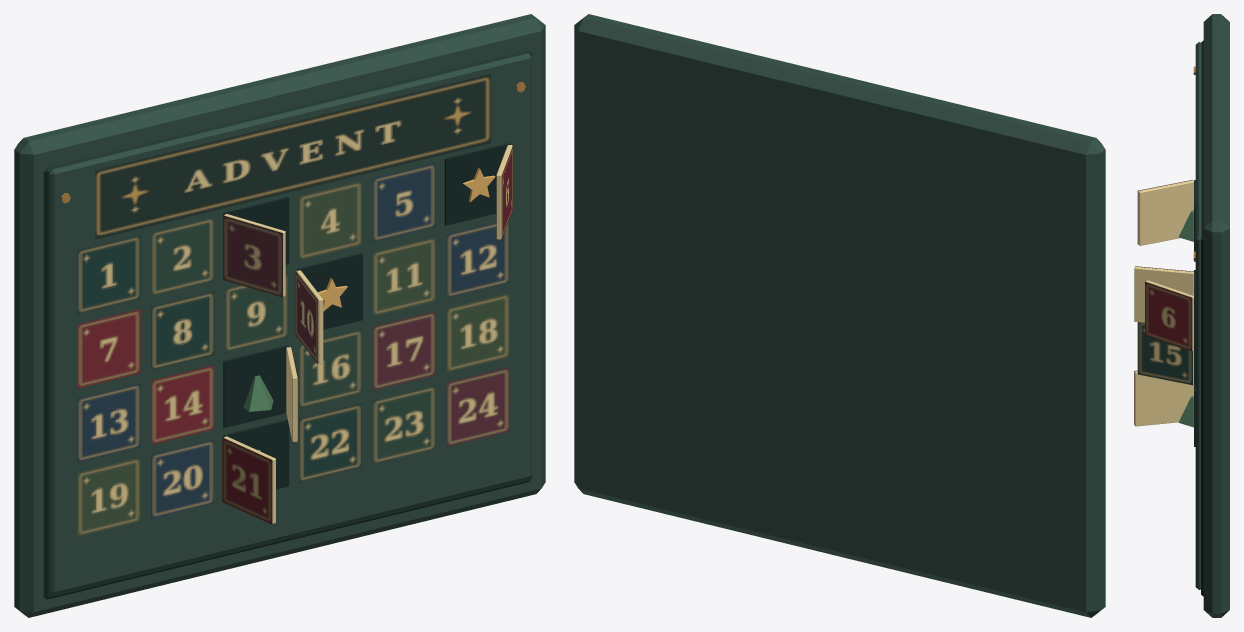
File: advent_calendar_open.glb
3 views of the same model, side by side, from view 1: azimuth 30°, elevation 25°; view 2: azimuth 150°, elevation 25°; view 3: azimuth 270°, elevation 25° (orthographic). The views are drawn at different scales.
Parts seen in each view (by area): view 1: advent_calendar; view 2: advent_calendar; view 3: advent_calendar.
Boxes of the visible parts, x1=… form: advent_calendar: x1=14, y1=14, x2=545, y2=617; advent_calendar: x1=574, y1=14, x2=1105, y2=617; advent_calendar: x1=1134, y1=14, x2=1229, y2=617.
Size of the model in its own units: 0.349 by 0.302 by 0.066.
Materials: 8 (1 with a texture image).
